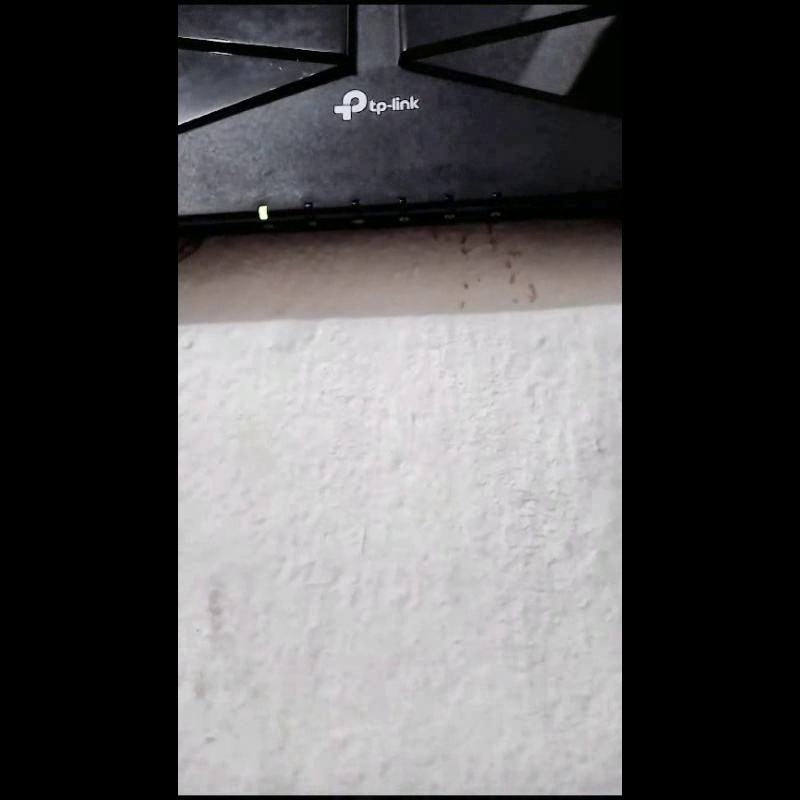off: (490, 188, 501, 209), (443, 191, 454, 211), (303, 199, 313, 217), (349, 197, 359, 214), (397, 195, 406, 212)
on_green: (257, 204, 268, 221)
